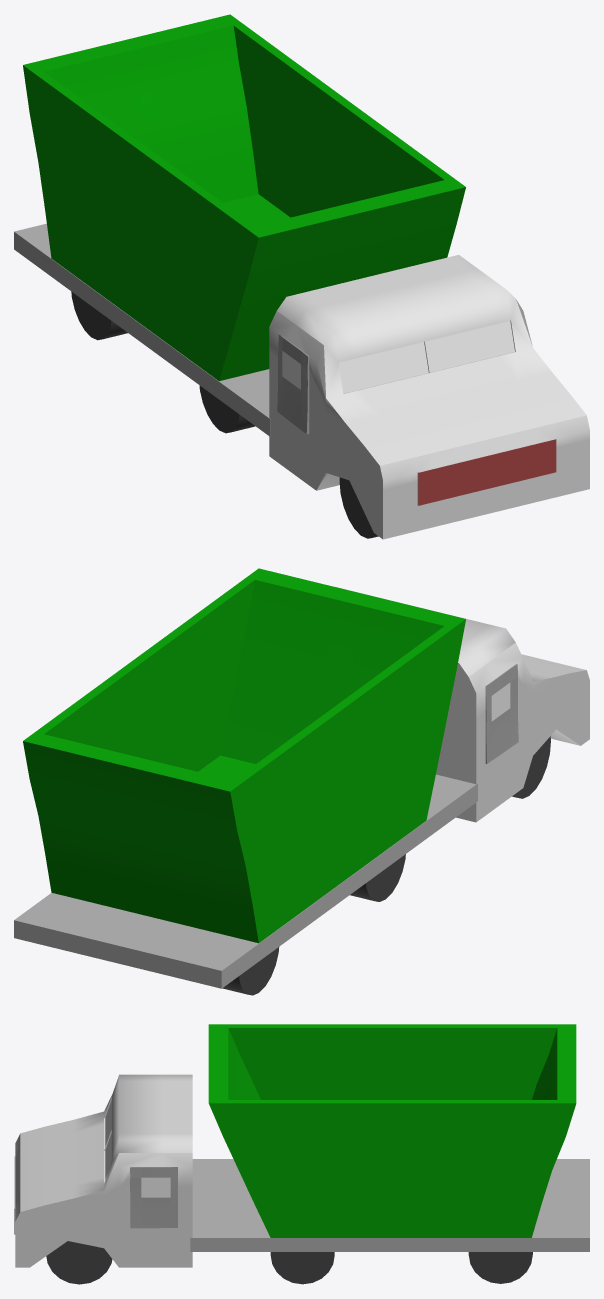
File: WasteDisposal Truck .fbx
3 views of the same model, one above another, from view 1: azimuth 30°, elevation 25°; view 2: azimuth 150°, elevation 25°; view 3: azimuth 270°, elevation 25° (orthographic). The views are drawn at different scales.
Visible parts, largest first — view 1: polySurface14, polySurface16, polySurface15, pCylinder8, pCylinder7, pCylinder6; view 2: polySurface14, polySurface16, polySurface15, pCylinder8, pCylinder7, pCylinder6; view 3: polySurface14, polySurface16, polySurface15, pCylinder1, pCylinder4, pCylinder5.
Boxes of the visible parts, left/top/right/bottom form: polySurface14: left=23, top=14, right=465, bottom=380; polySurface16: left=269, top=255, right=589, bottom=539; polySurface15: left=14, top=223, right=270, bottom=436; pCylinder8: left=71, top=291, right=127, bottom=340; pCylinder7: left=199, top=385, right=255, bottom=433; pCylinder6: left=339, top=477, right=378, bottom=538; polySurface14: left=23, top=568, right=465, bottom=943; polySurface16: left=334, top=586, right=589, bottom=822; polySurface15: left=14, top=774, right=477, bottom=988; pCylinder8: left=222, top=947, right=279, bottom=995; pCylinder7: left=350, top=854, right=405, bottom=901; pCylinder6: left=512, top=736, right=550, bottom=798; polySurface14: left=208, top=1024, right=576, bottom=1237; polySurface16: left=14, top=1074, right=192, bottom=1267; polySurface15: left=190, top=1159, right=589, bottom=1251; pCylinder1: left=46, top=1241, right=112, bottom=1284; pCylinder4: left=270, top=1252, right=334, bottom=1284; pCylinder5: left=468, top=1252, right=532, bottom=1283.
Size of the model in its own units: 2.95 by 3.22 by 8.9.
